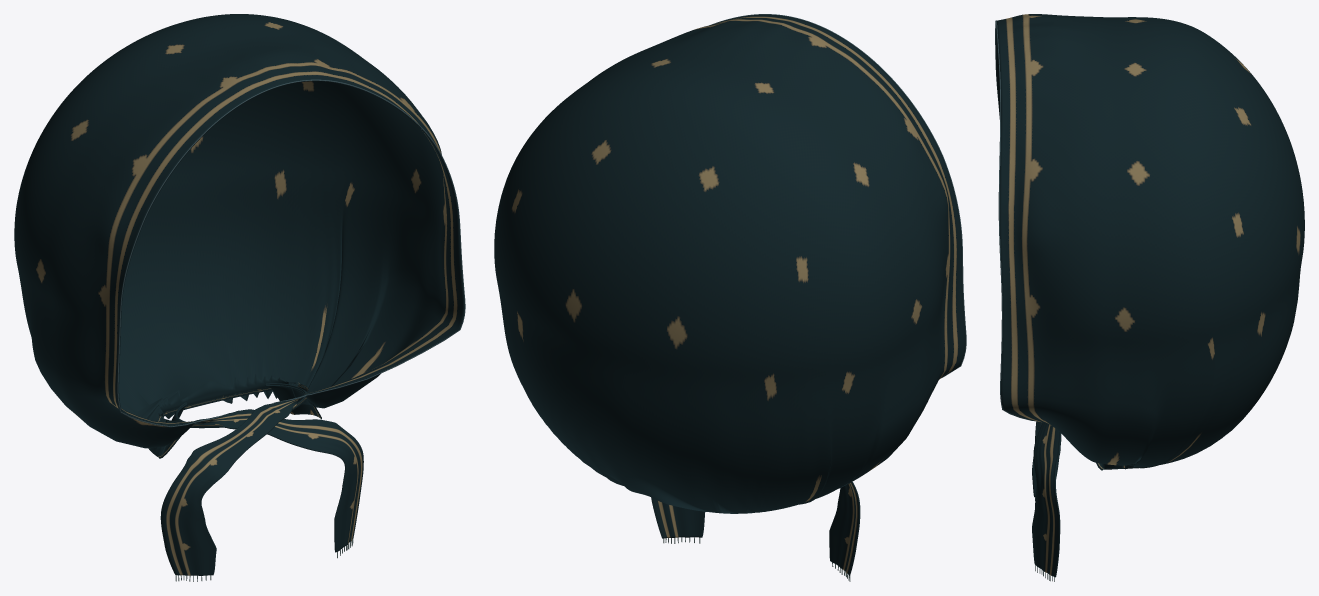
The model's file is Masculine-sidepart-tank-pashmina250-headgear.glb.
3 renders of one model, left to right at view 1: azimuth 30°, elevation 25°; view 2: azimuth 150°, elevation 25°; view 3: azimuth 270°, elevation 25°, orthographic. The views are drawn at different scales.
Visible parts, largest first — view 1: 226 headgear / Headwear / continuous woven pashmina239, 226 headgear / Headwear / face edge239; view 2: 226 headgear / Headwear / continuous woven pashmina239, 226 headgear / Headwear / face edge239; view 3: 226 headgear / Headwear / continuous woven pashmina239, 226 headgear / Headwear / face edge239.
Boxes of the visible parts, x1=… form: 226 headgear / Headwear / continuous woven pashmina239: x1=14, y1=14, x2=464, y2=575; 226 headgear / Headwear / face edge239: x1=117, y1=79, x2=465, y2=427; 226 headgear / Headwear / continuous woven pashmina239: x1=494, y1=14, x2=965, y2=575; 226 headgear / Headwear / face edge239: x1=711, y1=14, x2=966, y2=378; 226 headgear / Headwear / continuous woven pashmina239: x1=995, y1=14, x2=1304, y2=577; 226 headgear / Headwear / face edge239: x1=995, y1=20, x2=1035, y2=421.
Bounding box in the file's own units: 1.07 × 1.39 × 0.7681.
3 materials, 1 textured.
